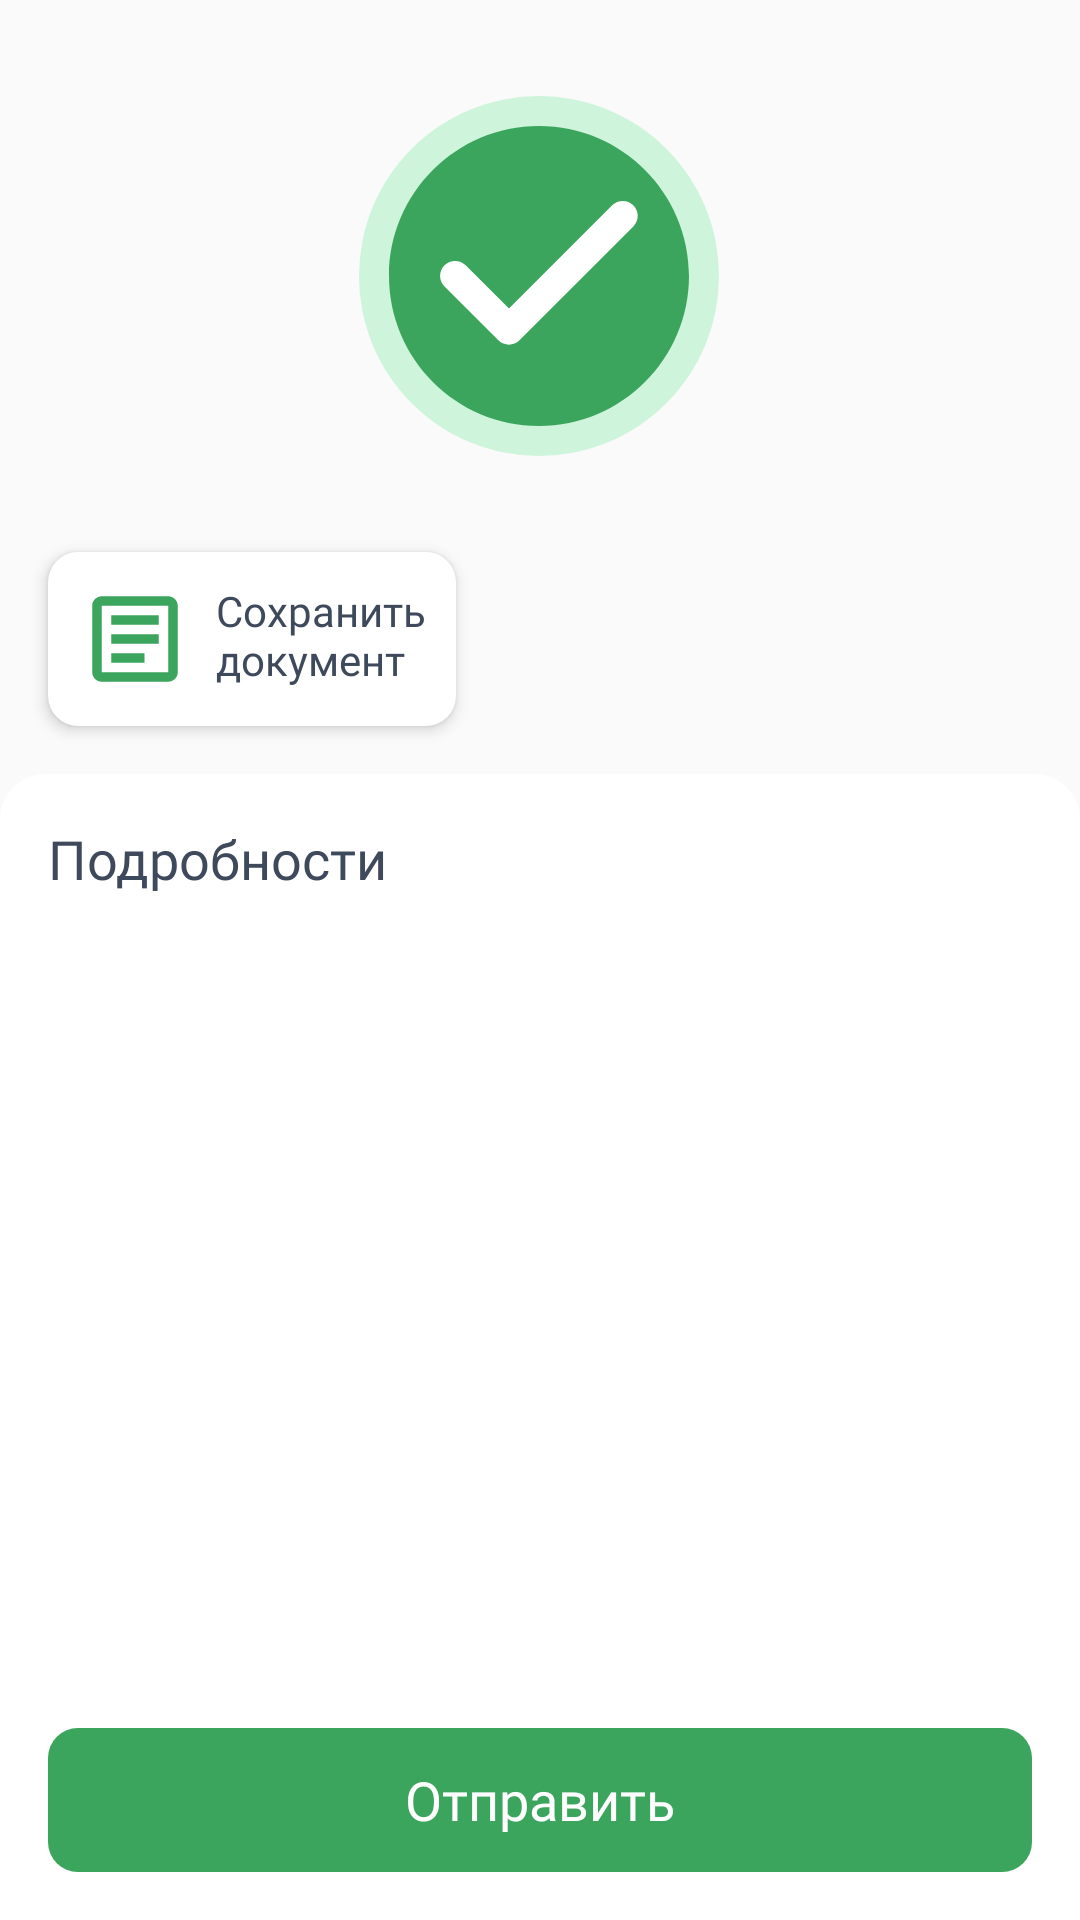

Named icons in this screenshot (1080px×1920px) and their bounding boxes, (x1, y1, x2, y2):
complete: (359, 96, 719, 456)
